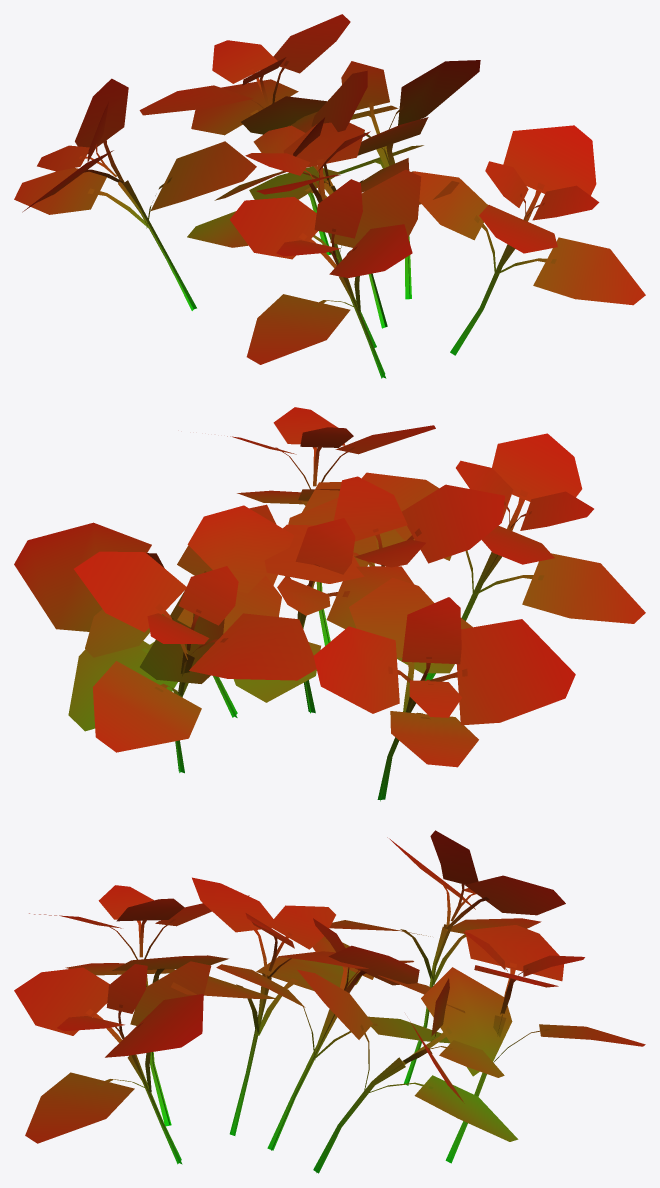
File: vegetation_4.fbx
The picture shows the model from 3 angles, top to bottom: view 1: azimuth 30°, elevation 25°; view 2: azimuth 150°, elevation 25°; view 3: azimuth 270°, elevation 25°; orthographic projection. The views are drawn at different scales.
Visible parts, largest first — view 1: f:_tp39_Var9_0; view 2: f:_tp39_Var9_0; view 3: f:_tp39_Var9_0.
Boxes of the visible parts, <box> form: f:_tp39_Var9_0: <box>14,14,645,378</box>; f:_tp39_Var9_0: <box>14,407,645,801</box>; f:_tp39_Var9_0: <box>14,830,645,1173</box>.
Size of the model in its own units: 10.24 by 4.38 by 11.38.
